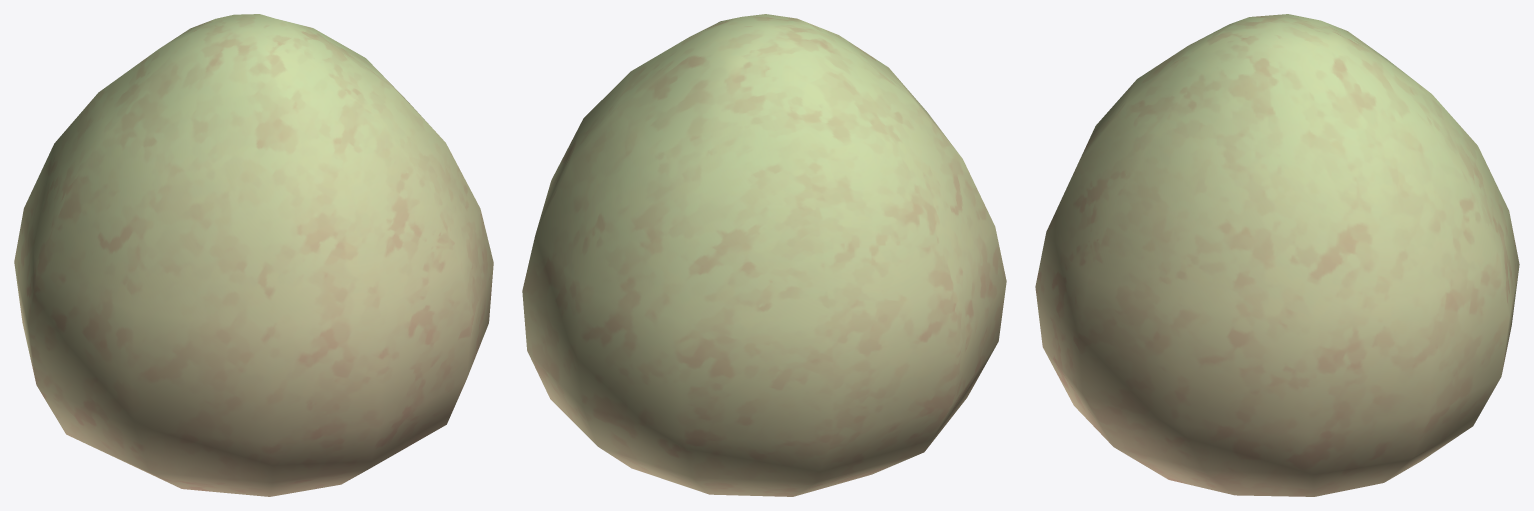
The model's file is strawberryimmaturepaint.glb.
The picture shows the model from 3 angles, left to right: view 1: azimuth 30°, elevation 25°; view 2: azimuth 150°, elevation 25°; view 3: azimuth 270°, elevation 25°; orthographic projection.
Visible parts, largest first — view 1: strawberry_immature_LP; view 2: strawberry_immature_LP; view 3: strawberry_immature_LP.
Part boxes in pixels (left/top/right/bottom): strawberry_immature_LP: left=14, top=14, right=493, bottom=496; strawberry_immature_LP: left=522, top=14, right=1006, bottom=496; strawberry_immature_LP: left=1035, top=14, right=1519, bottom=496.
Bounding box in the file's own units: 0.0323 × 0.0315 × 0.0322.
Materials: 1 (1 with a texture image).
